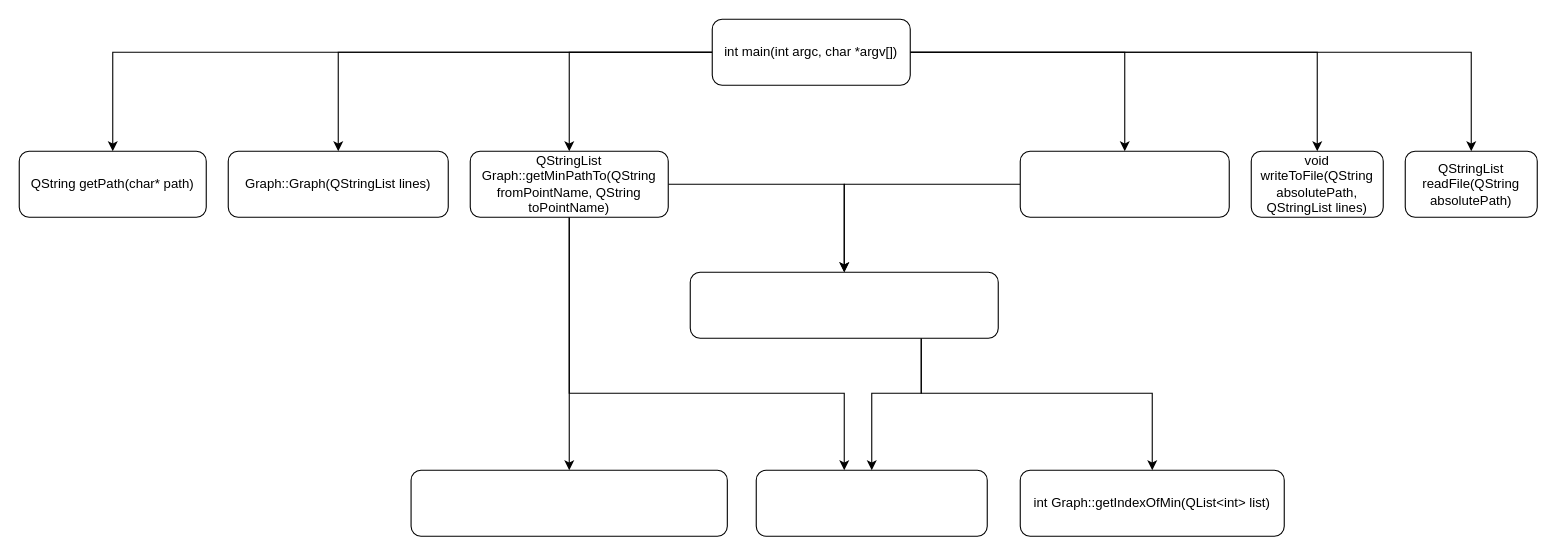
This 1557x556 diagram has some shape labels left out. Here are the shapes that lost their labels. From the top down, the centre of each, then its label:
At (x=1124, y=183): "int Graph::getDistanceTo(QString fromPointName, QString toPointName)".
At (x=843, y=304): "void Graph::calculateLabelsFromPoint(QString pointName)".
At (x=568, y=502): "QList<int> Graph::getConnectedPoints(int toPoint)".
At (x=871, y=502): "int Graph::getPointIndex(QString pointName)".
